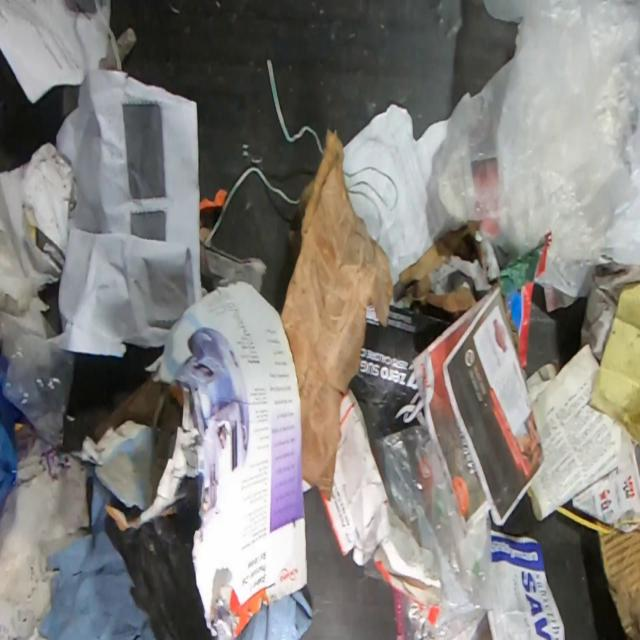cardboard: (280, 130, 392, 500), (598, 521, 639, 638)
soft_plastic: (436, 0, 640, 300), (43, 471, 315, 640), (372, 424, 491, 639), (1, 313, 74, 451)
